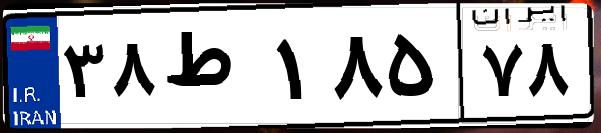1: (270, 28, 330, 110)
3: (57, 26, 110, 100)
5: (385, 28, 445, 110)
7: (475, 38, 525, 113)
8: (330, 28, 385, 110), (525, 38, 570, 115), (110, 28, 158, 98)
ط: (158, 20, 270, 120)
